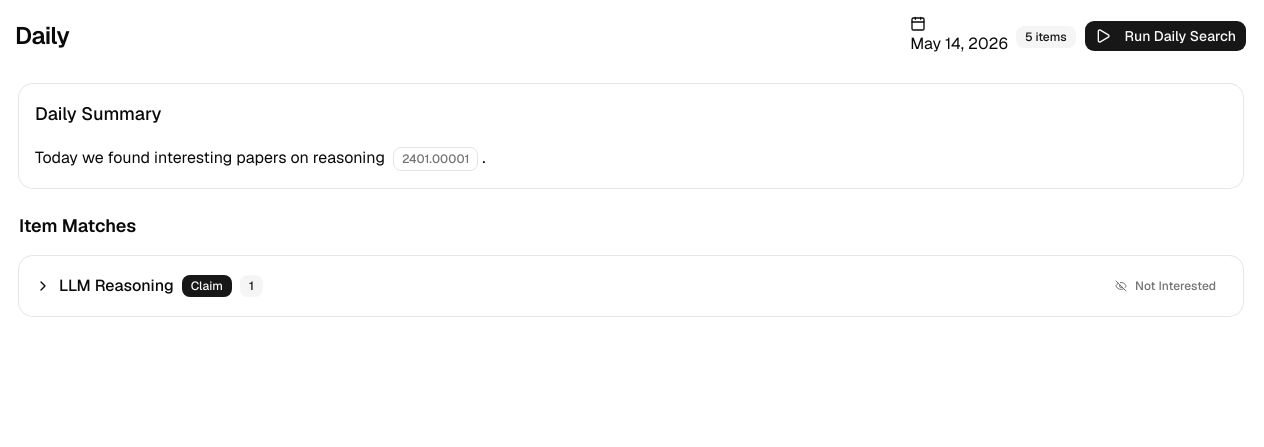
Scenario: Daily report page › shows completed state with summary and collapsed matches
Check: the text "Daily Summary" is shown, box [35, 100, 162, 128]
Check: the text "Today we found interesting papers on reasoning 2401.00001 ." is shown, box [35, 147, 486, 171]
Click the button named "open citation 1: 2401.00001" at point(436, 159), box [393, 147, 478, 171]
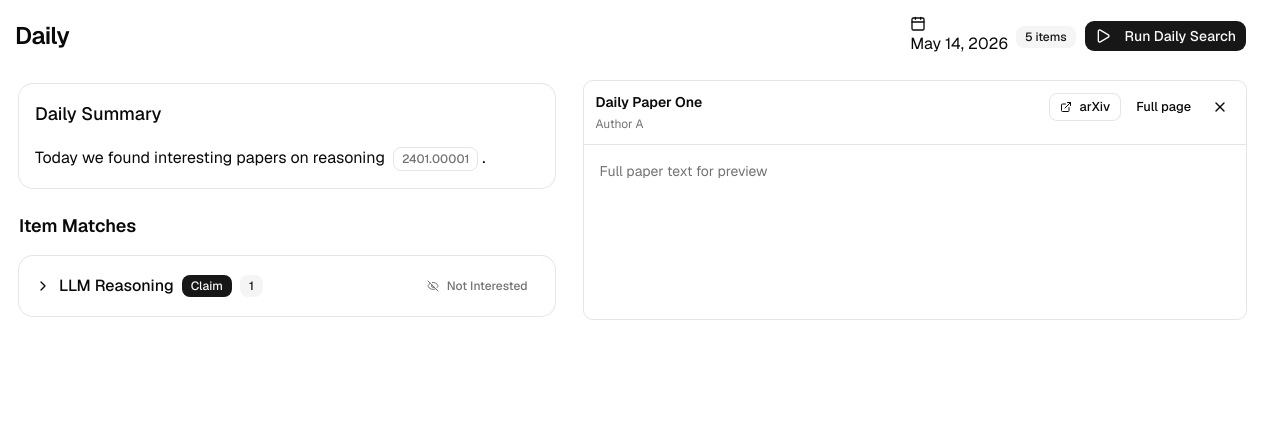
Check: the heading "Daily Paper One" is shown, box [596, 93, 702, 111]
Click the button "LLM Reasoning Claim 1" at point(149, 286), box [35, 274, 263, 298]
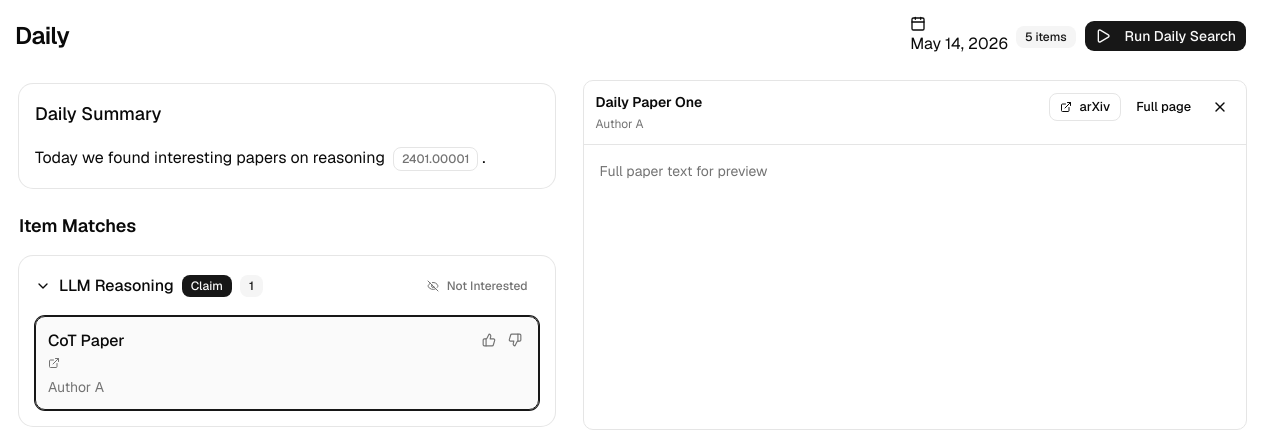
Check: the button "CoT Paper" is shown, box [48, 329, 125, 353]
